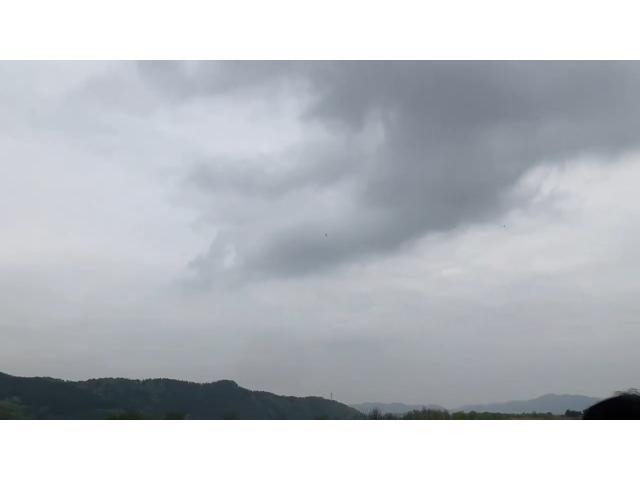Anti-Drone: (320, 228, 334, 240)
